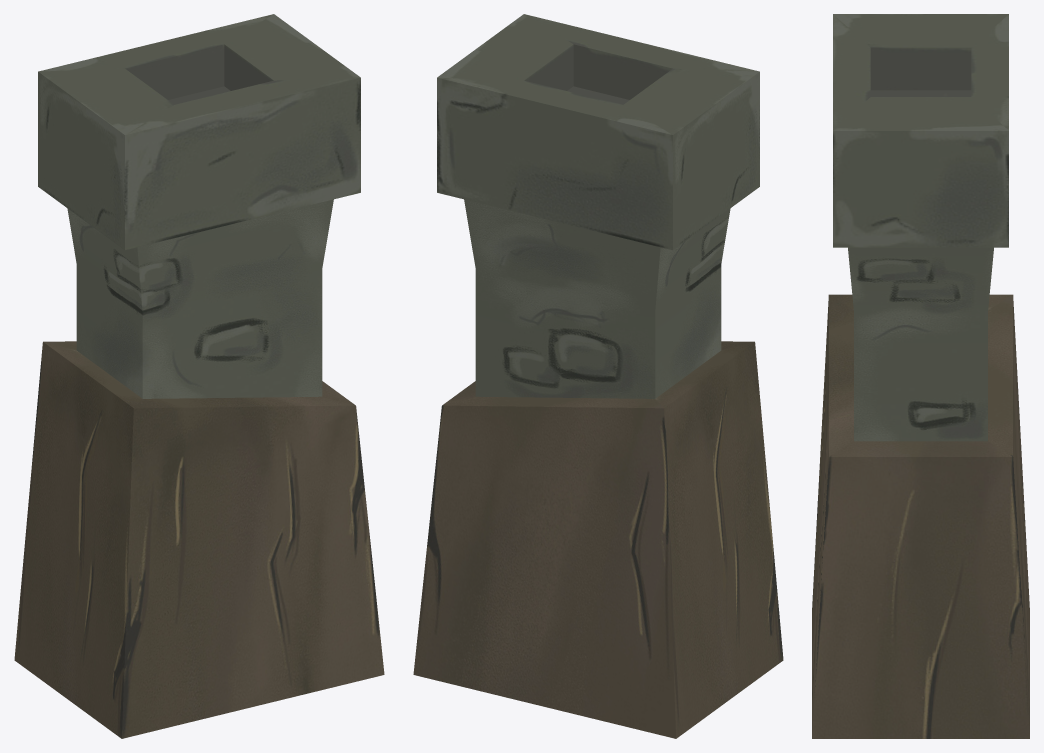
The model's file is polysurface580_txt_chem1_0_lev1_lev2.glb.
The picture shows the model from 3 angles, left to right: view 1: azimuth 30°, elevation 25°; view 2: azimuth 150°, elevation 25°; view 3: azimuth 270°, elevation 25°; orthographic projection.
Visible parts, largest first — view 1: polysurface580_txt_chem1_0_lev1_lev2; view 2: polysurface580_txt_chem1_0_lev1_lev2; view 3: polysurface580_txt_chem1_0_lev1_lev2.
Part boxes in pixels (bbox=[...]): polysurface580_txt_chem1_0_lev1_lev2: bbox=[14, 14, 384, 738]; polysurface580_txt_chem1_0_lev1_lev2: bbox=[413, 14, 783, 738]; polysurface580_txt_chem1_0_lev1_lev2: bbox=[812, 14, 1029, 738].
Bounding box in the file's own units: 1.33 × 2.87 × 0.9431.
Materials: 1 (1 with a texture image).
